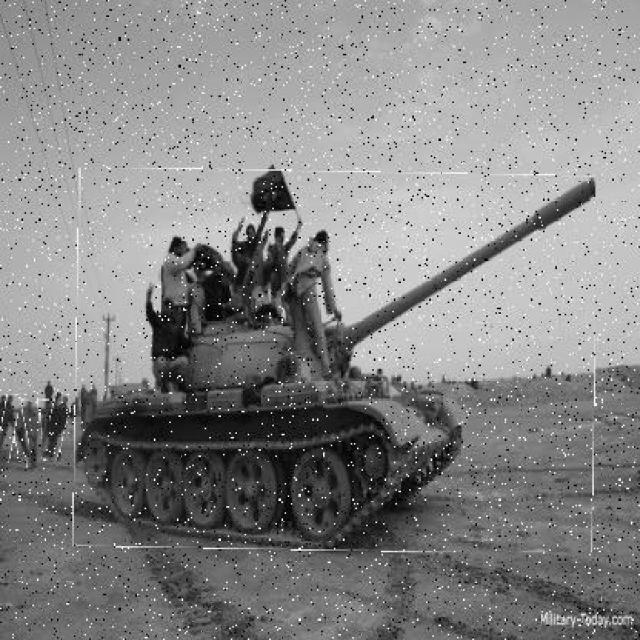Person: (272, 229, 353, 386), (152, 238, 209, 398), (144, 286, 196, 398), (263, 220, 301, 304), (196, 257, 235, 326), (226, 216, 266, 264), (44, 395, 70, 462), (23, 400, 43, 471), (1, 393, 19, 467), (12, 398, 30, 458), (38, 400, 52, 454)
Tank: (75, 172, 596, 555)
